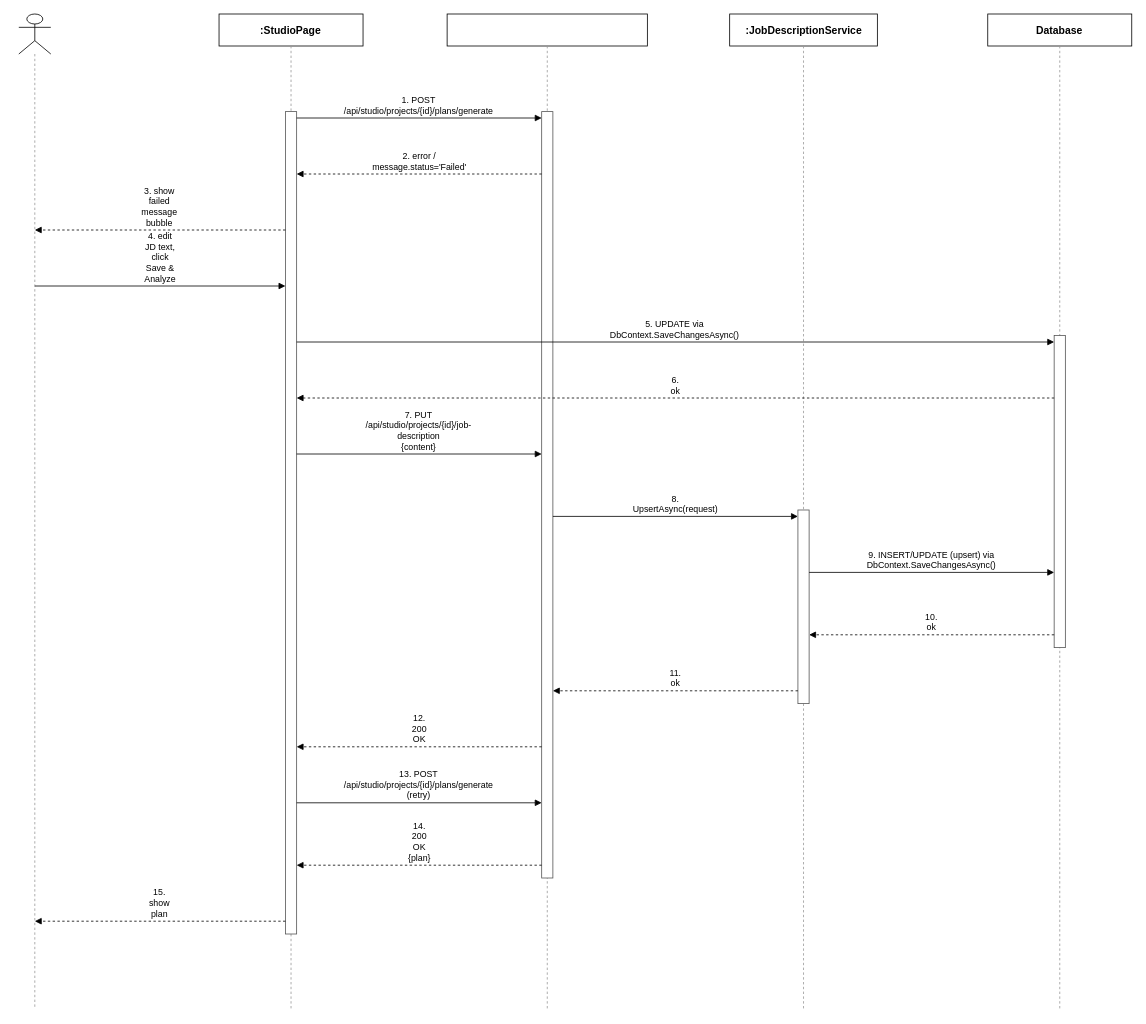
The diagram is 1146 pixels wide and 1024 high, and some of its shapes have lost their labels. Here are the shapes that lost their labels. From the top down, the centre of each, then its label:
the point at 34,33: HR Manager
the point at 546,29: :StudioInterviewPlansController
